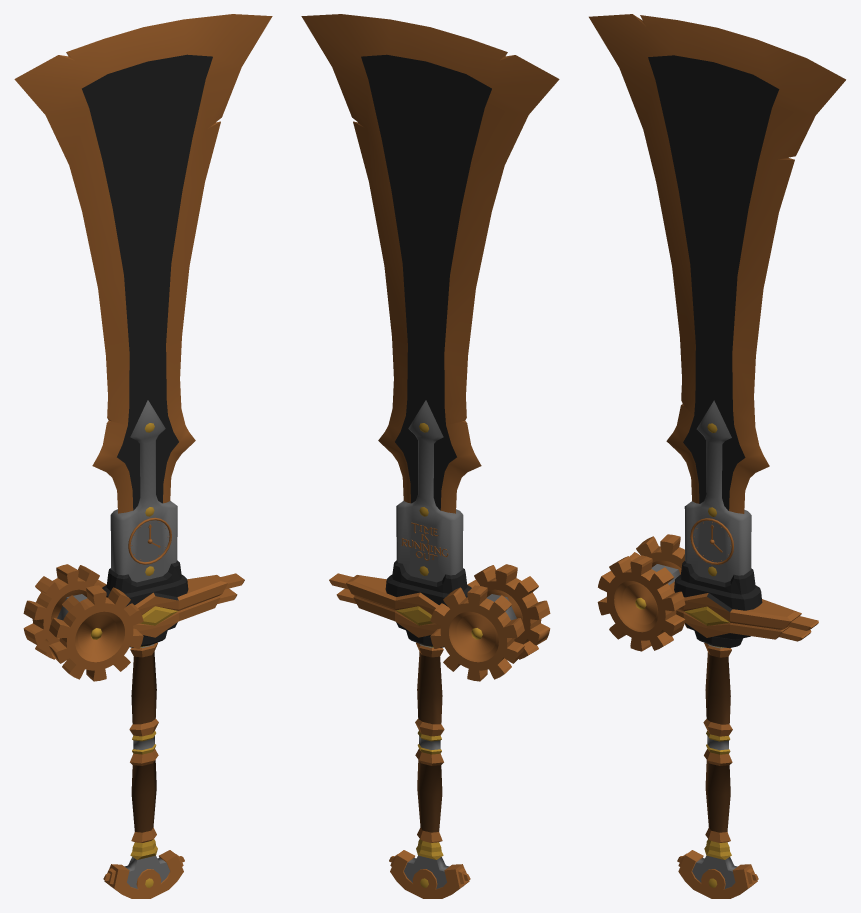
File: ClocktowerSword.glb
3 views of the same model, side by side, from view 1: azimuth 30°, elevation 25°; view 2: azimuth 150°, elevation 25°; view 3: azimuth 330°, elevation 25° (orthographic).
Parts seen in each view (by area): view 1: ClocktowerSword, Gear, Gear.001; view 2: ClocktowerSword, Gear.001, Gear; view 3: ClocktowerSword, Gear, Gear.001.
Boxes of the visible parts, <box> form: ClocktowerSword: <box>14,14,272,898</box>; Gear: <box>49,585,143,681</box>; Gear.001: <box>23,564,106,659</box>; ClocktowerSword: <box>301,14,559,898</box>; Gear.001: <box>430,585,524,681</box>; Gear: <box>467,564,550,659</box>; ClocktowerSword: <box>589,14,845,898</box>; Gear: <box>597,555,685,651</box>; Gear.001: <box>629,534,687,628</box>.
Size of the model in its own units: 0.6437 by 2.06 by 0.1856.
